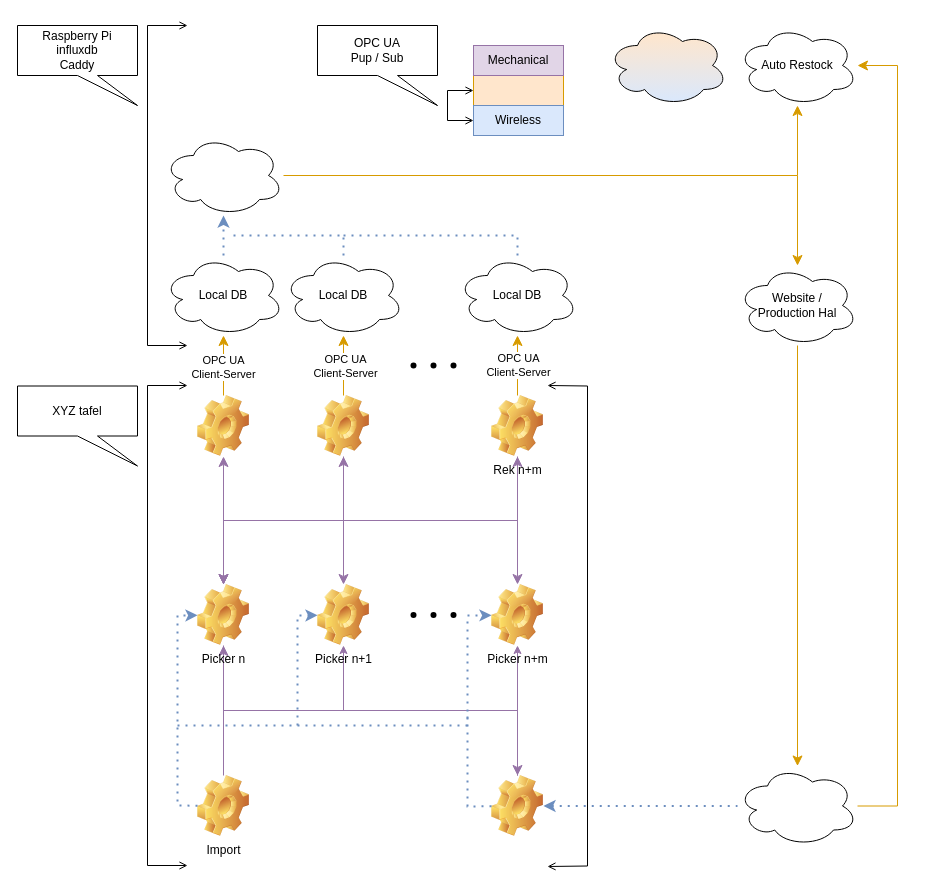
Some shapes in this 925 by 893 pixel diagram are drawn without their labels. The centre of each missing label's shape, as x and y in pixels:
Data: [518,90]
Export: [517,805]
OPC UA MOM: [667,65]
Order DB: [797,805]
Rek n: [223,425]
Rek n+1: [343,425]
Storage DB: [223,175]
